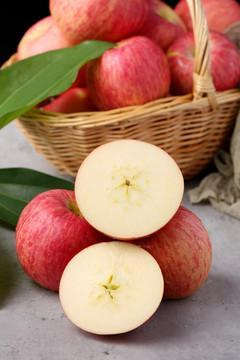apple: (73, 138, 183, 239), (57, 241, 164, 335), (15, 183, 108, 287), (132, 205, 212, 297), (83, 36, 172, 109), (165, 31, 240, 91), (47, 1, 150, 39)
